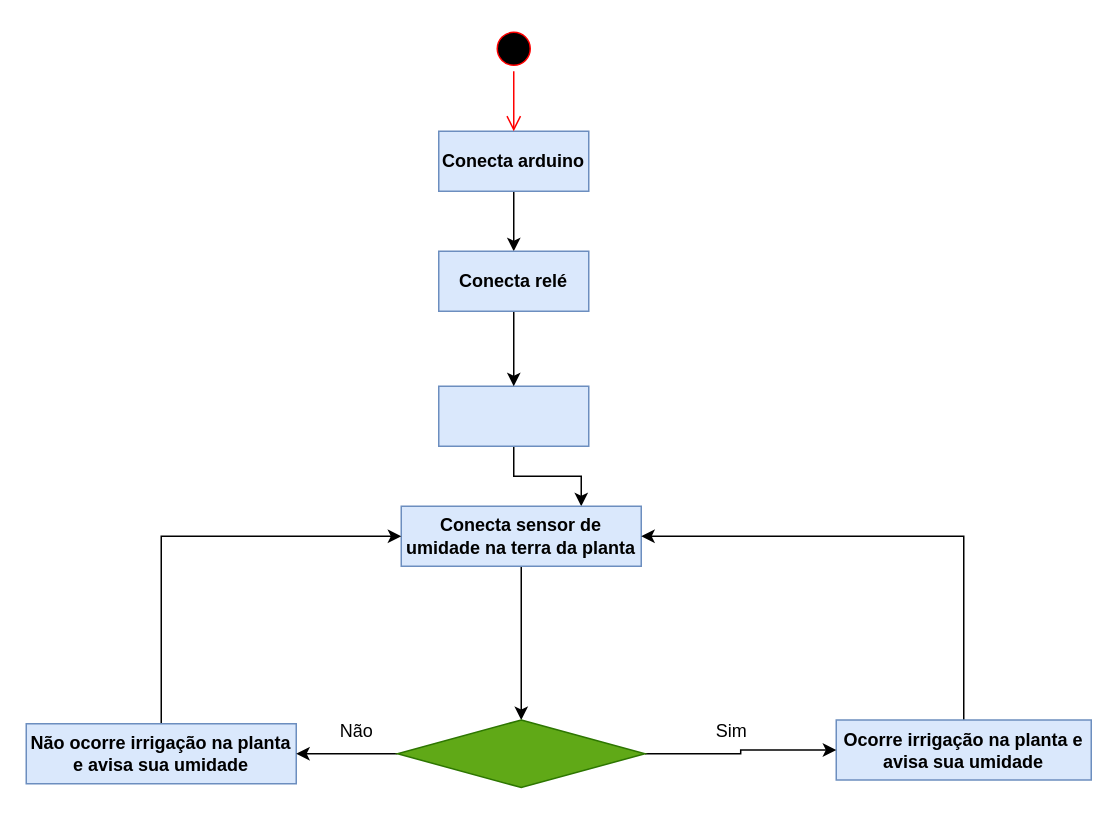
This 1118x815 diagram has some shape labels left out. Here are the shapes that lost their labels. From the top down, the centre of each, then its label:
point 513,415: Liga bomba d'gua
point 520,753: Umidade especifica ?
